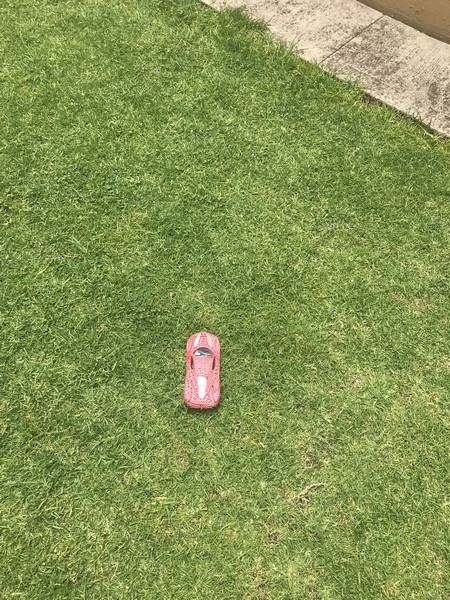RC: (181, 329, 223, 412)
